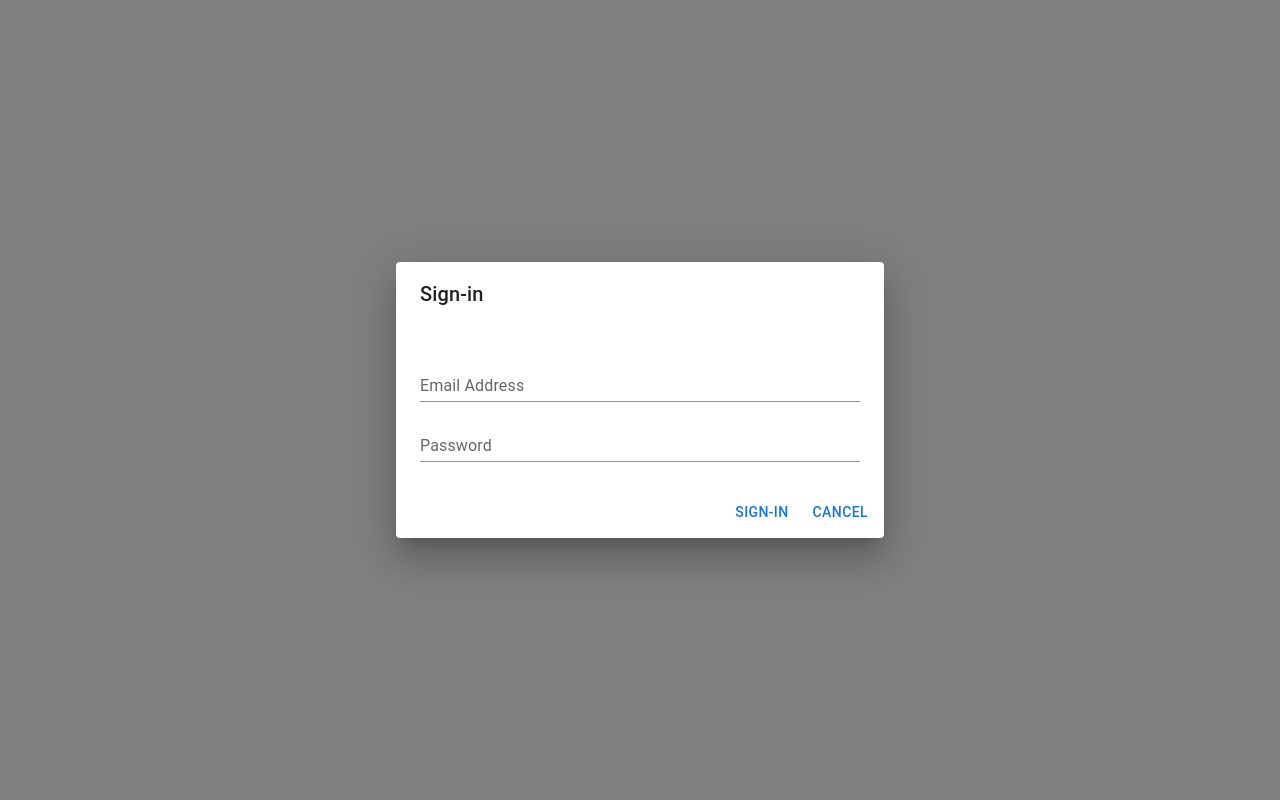
Test: SignInDialog › submit › should show loading while processing
Type "valid_email@validdomain.com" into the field with test id "sign-in-dialog-email" at (640, 386), box [420,370,860,402]
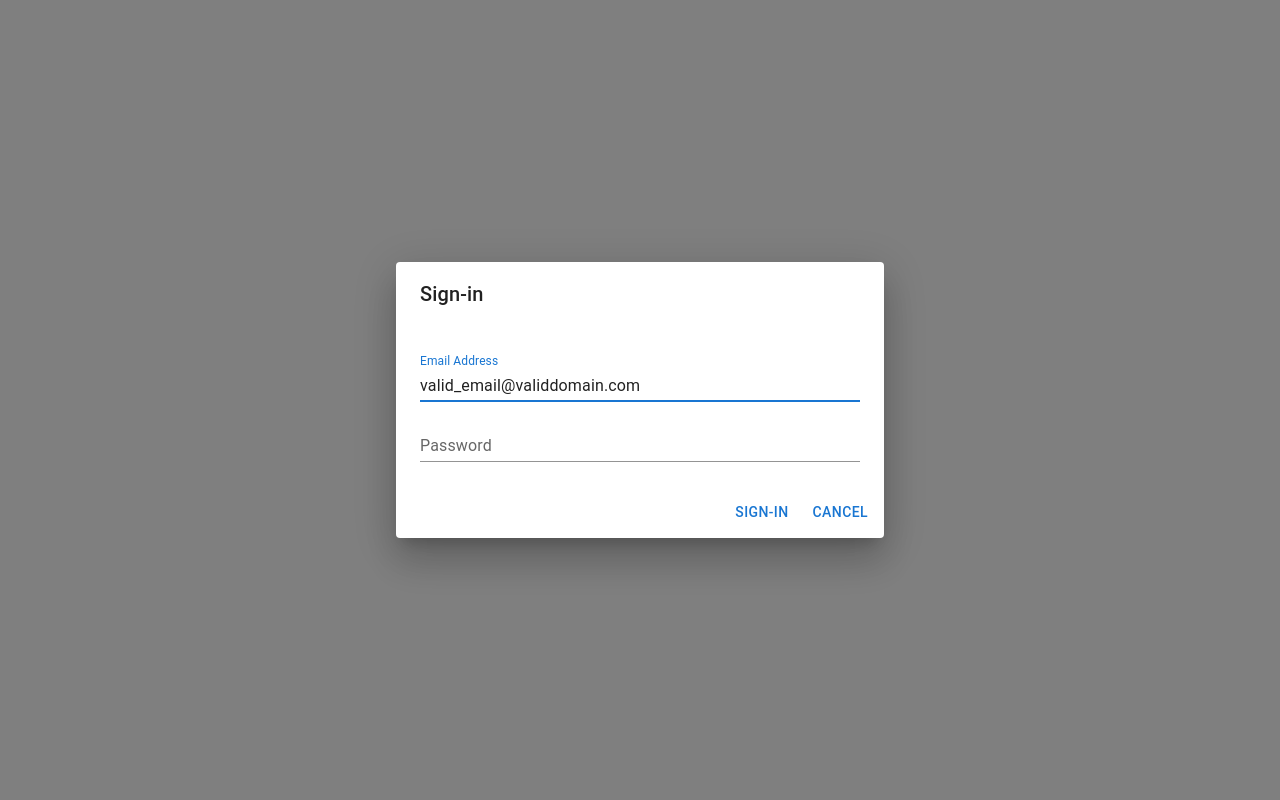
Type "valid_password" into the password field with test id "sign-in-dialog-password" at (640, 446), box [420,430,860,462]
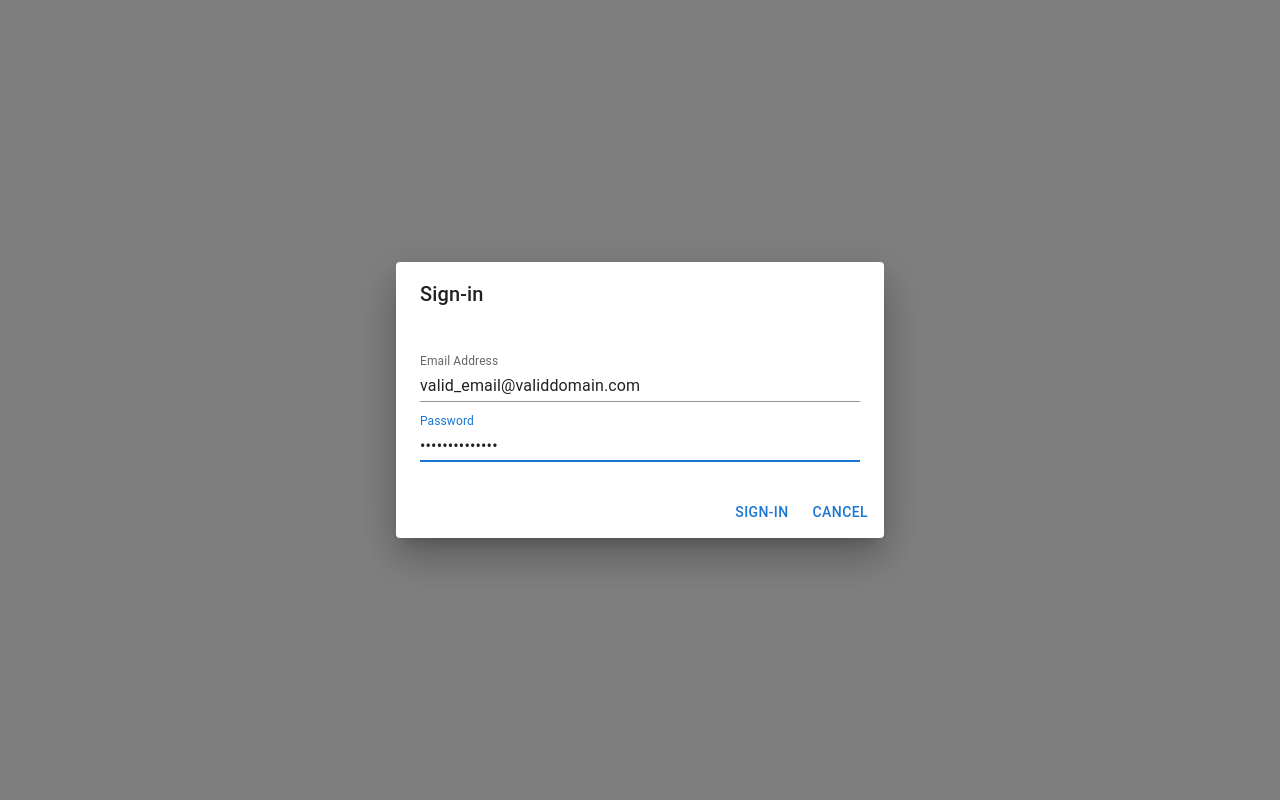
Click the button with test id "sign-in-dialog-sign-in-button" at (762, 512), box [727,494,796,530]
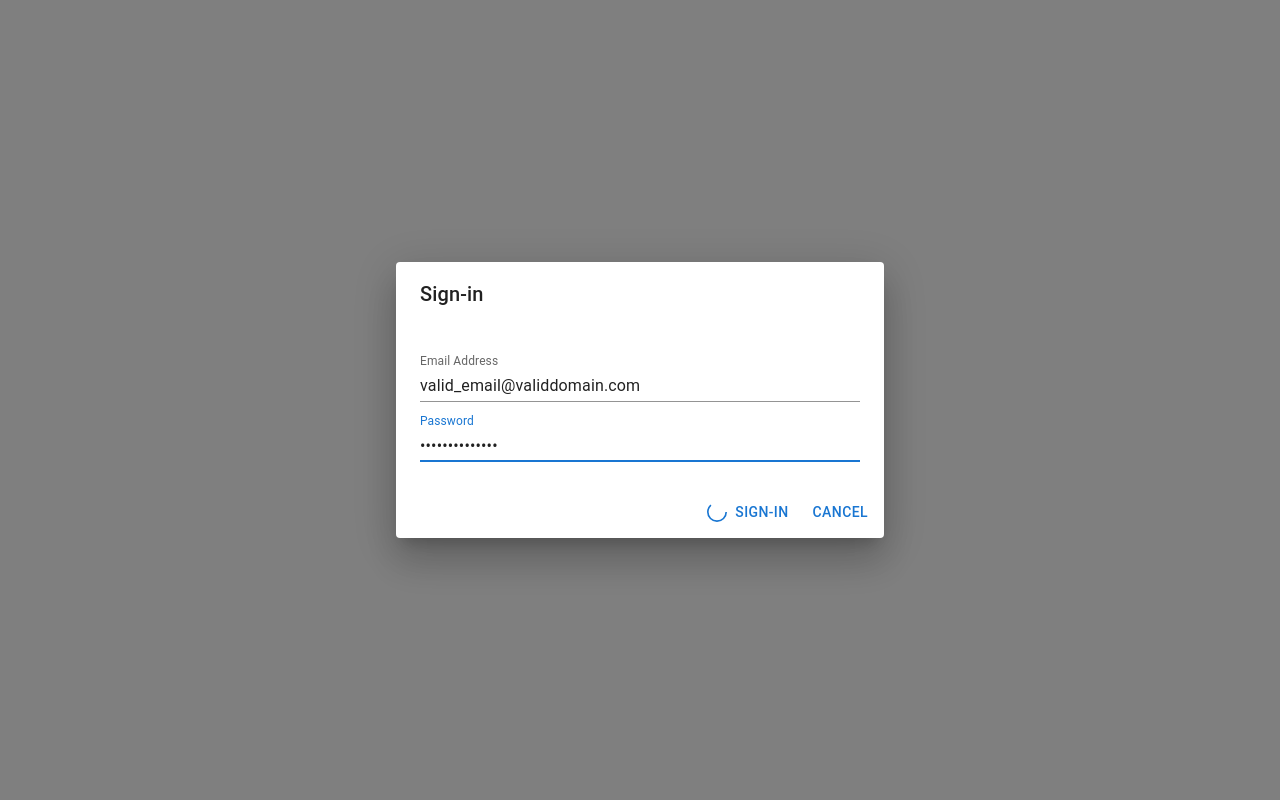
Now the progress indicator with test id "sign-in-dialog-loading" is shown, box [707,502,727,522]
